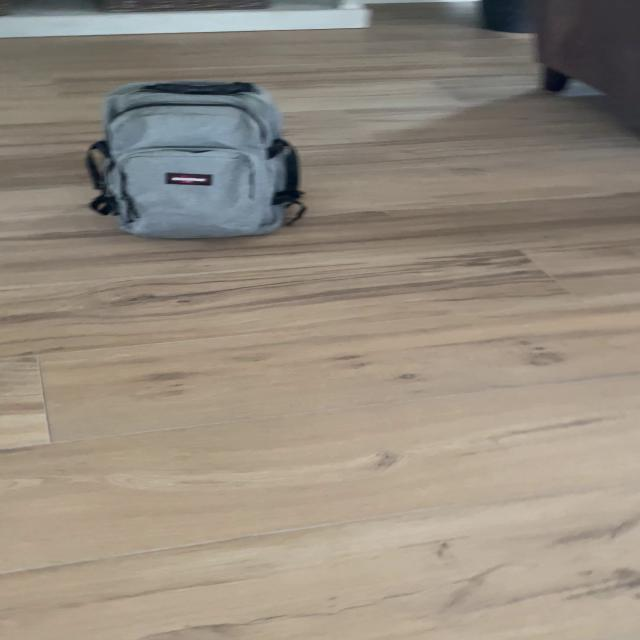backpack: (72, 70, 314, 246)
